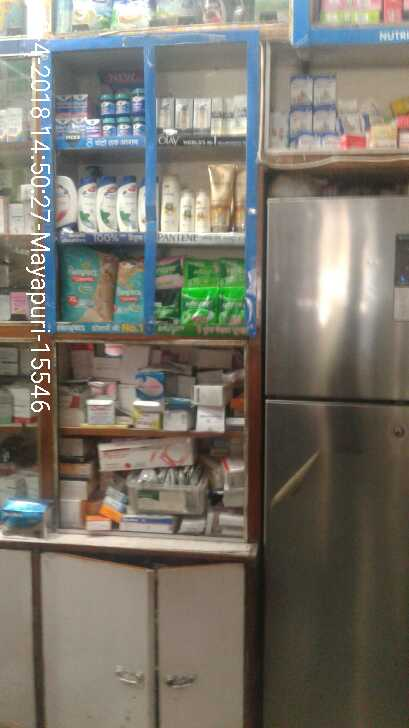vicks: (56, 90, 143, 137)
